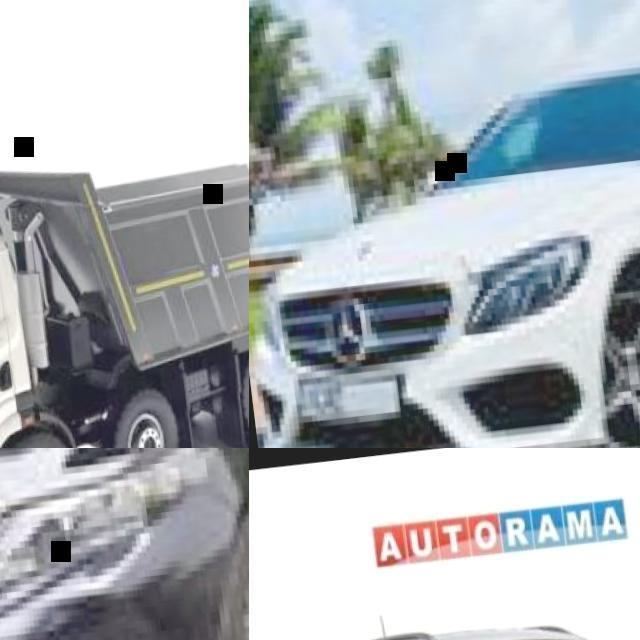car: (218, 0, 635, 639)
